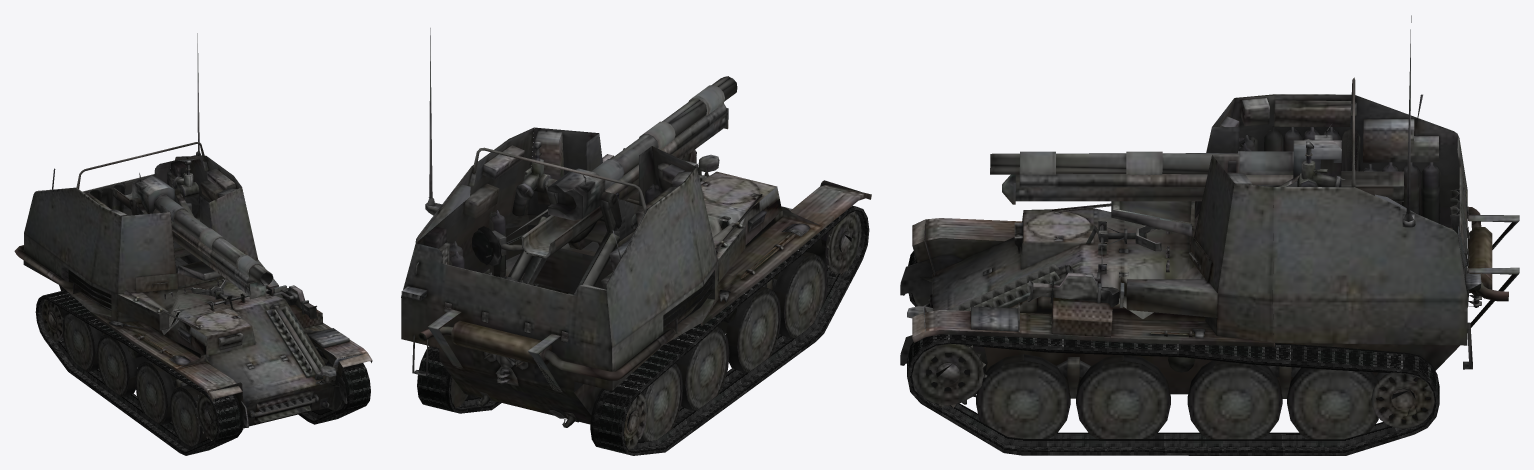
3 views of the same model, side by side, from view 1: azimuth 30°, elevation 25°; view 2: azimuth 150°, elevation 25°; view 3: azimuth 270°, elevation 25° (orthographic). The views are drawn at different scales.
Visible parts, largest first — view 1: 坦克09; view 2: 坦克09; view 3: 坦克09.
Part boxes in pixels (x1,y1,x2,y2): 坦克09: (14, 33, 372, 455); 坦克09: (401, 28, 871, 455); 坦克09: (900, 15, 1519, 455).
Size of the model in its own units: 2.35 by 4.13 by 5.24.
2 materials, 2 textured.
